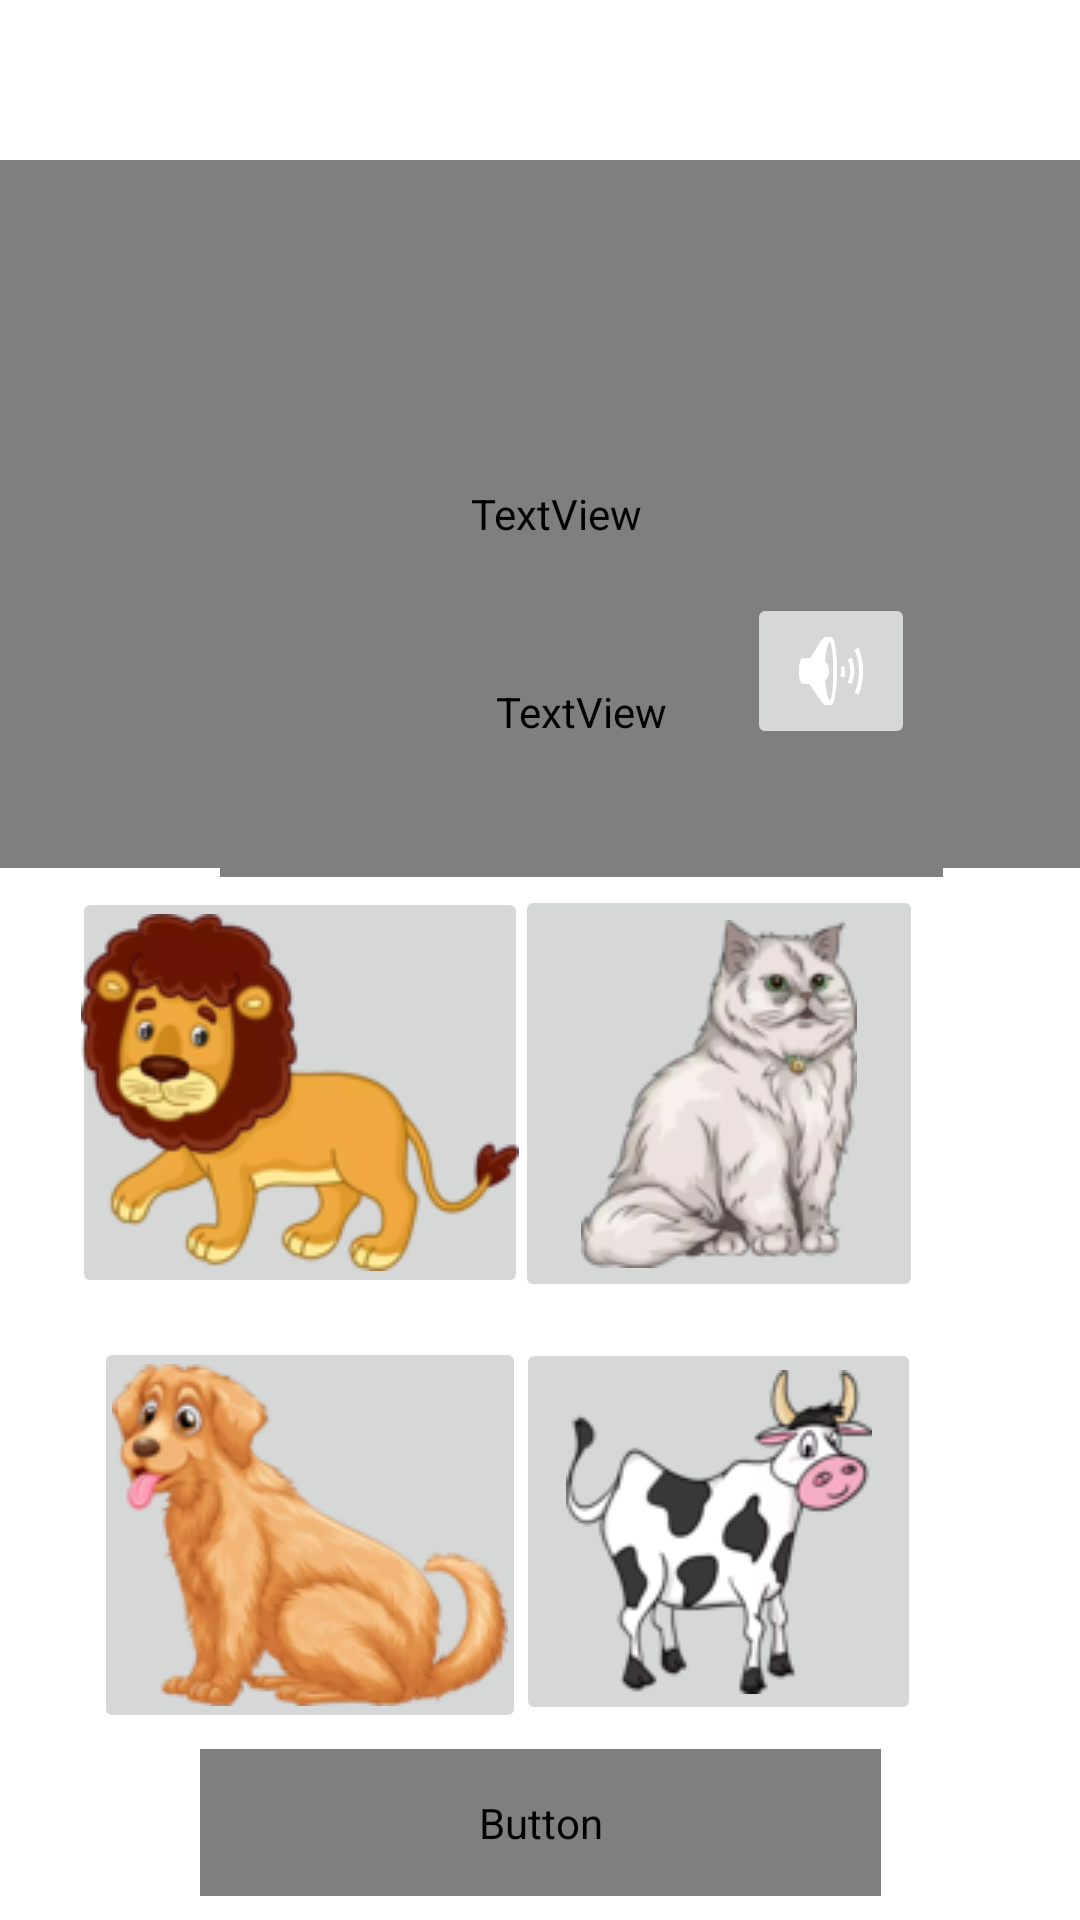

Screen size 1080*1920. Icon name, then its center in pixels as (x=x, y=y):
lock silent mode off: (x=831, y=671)
